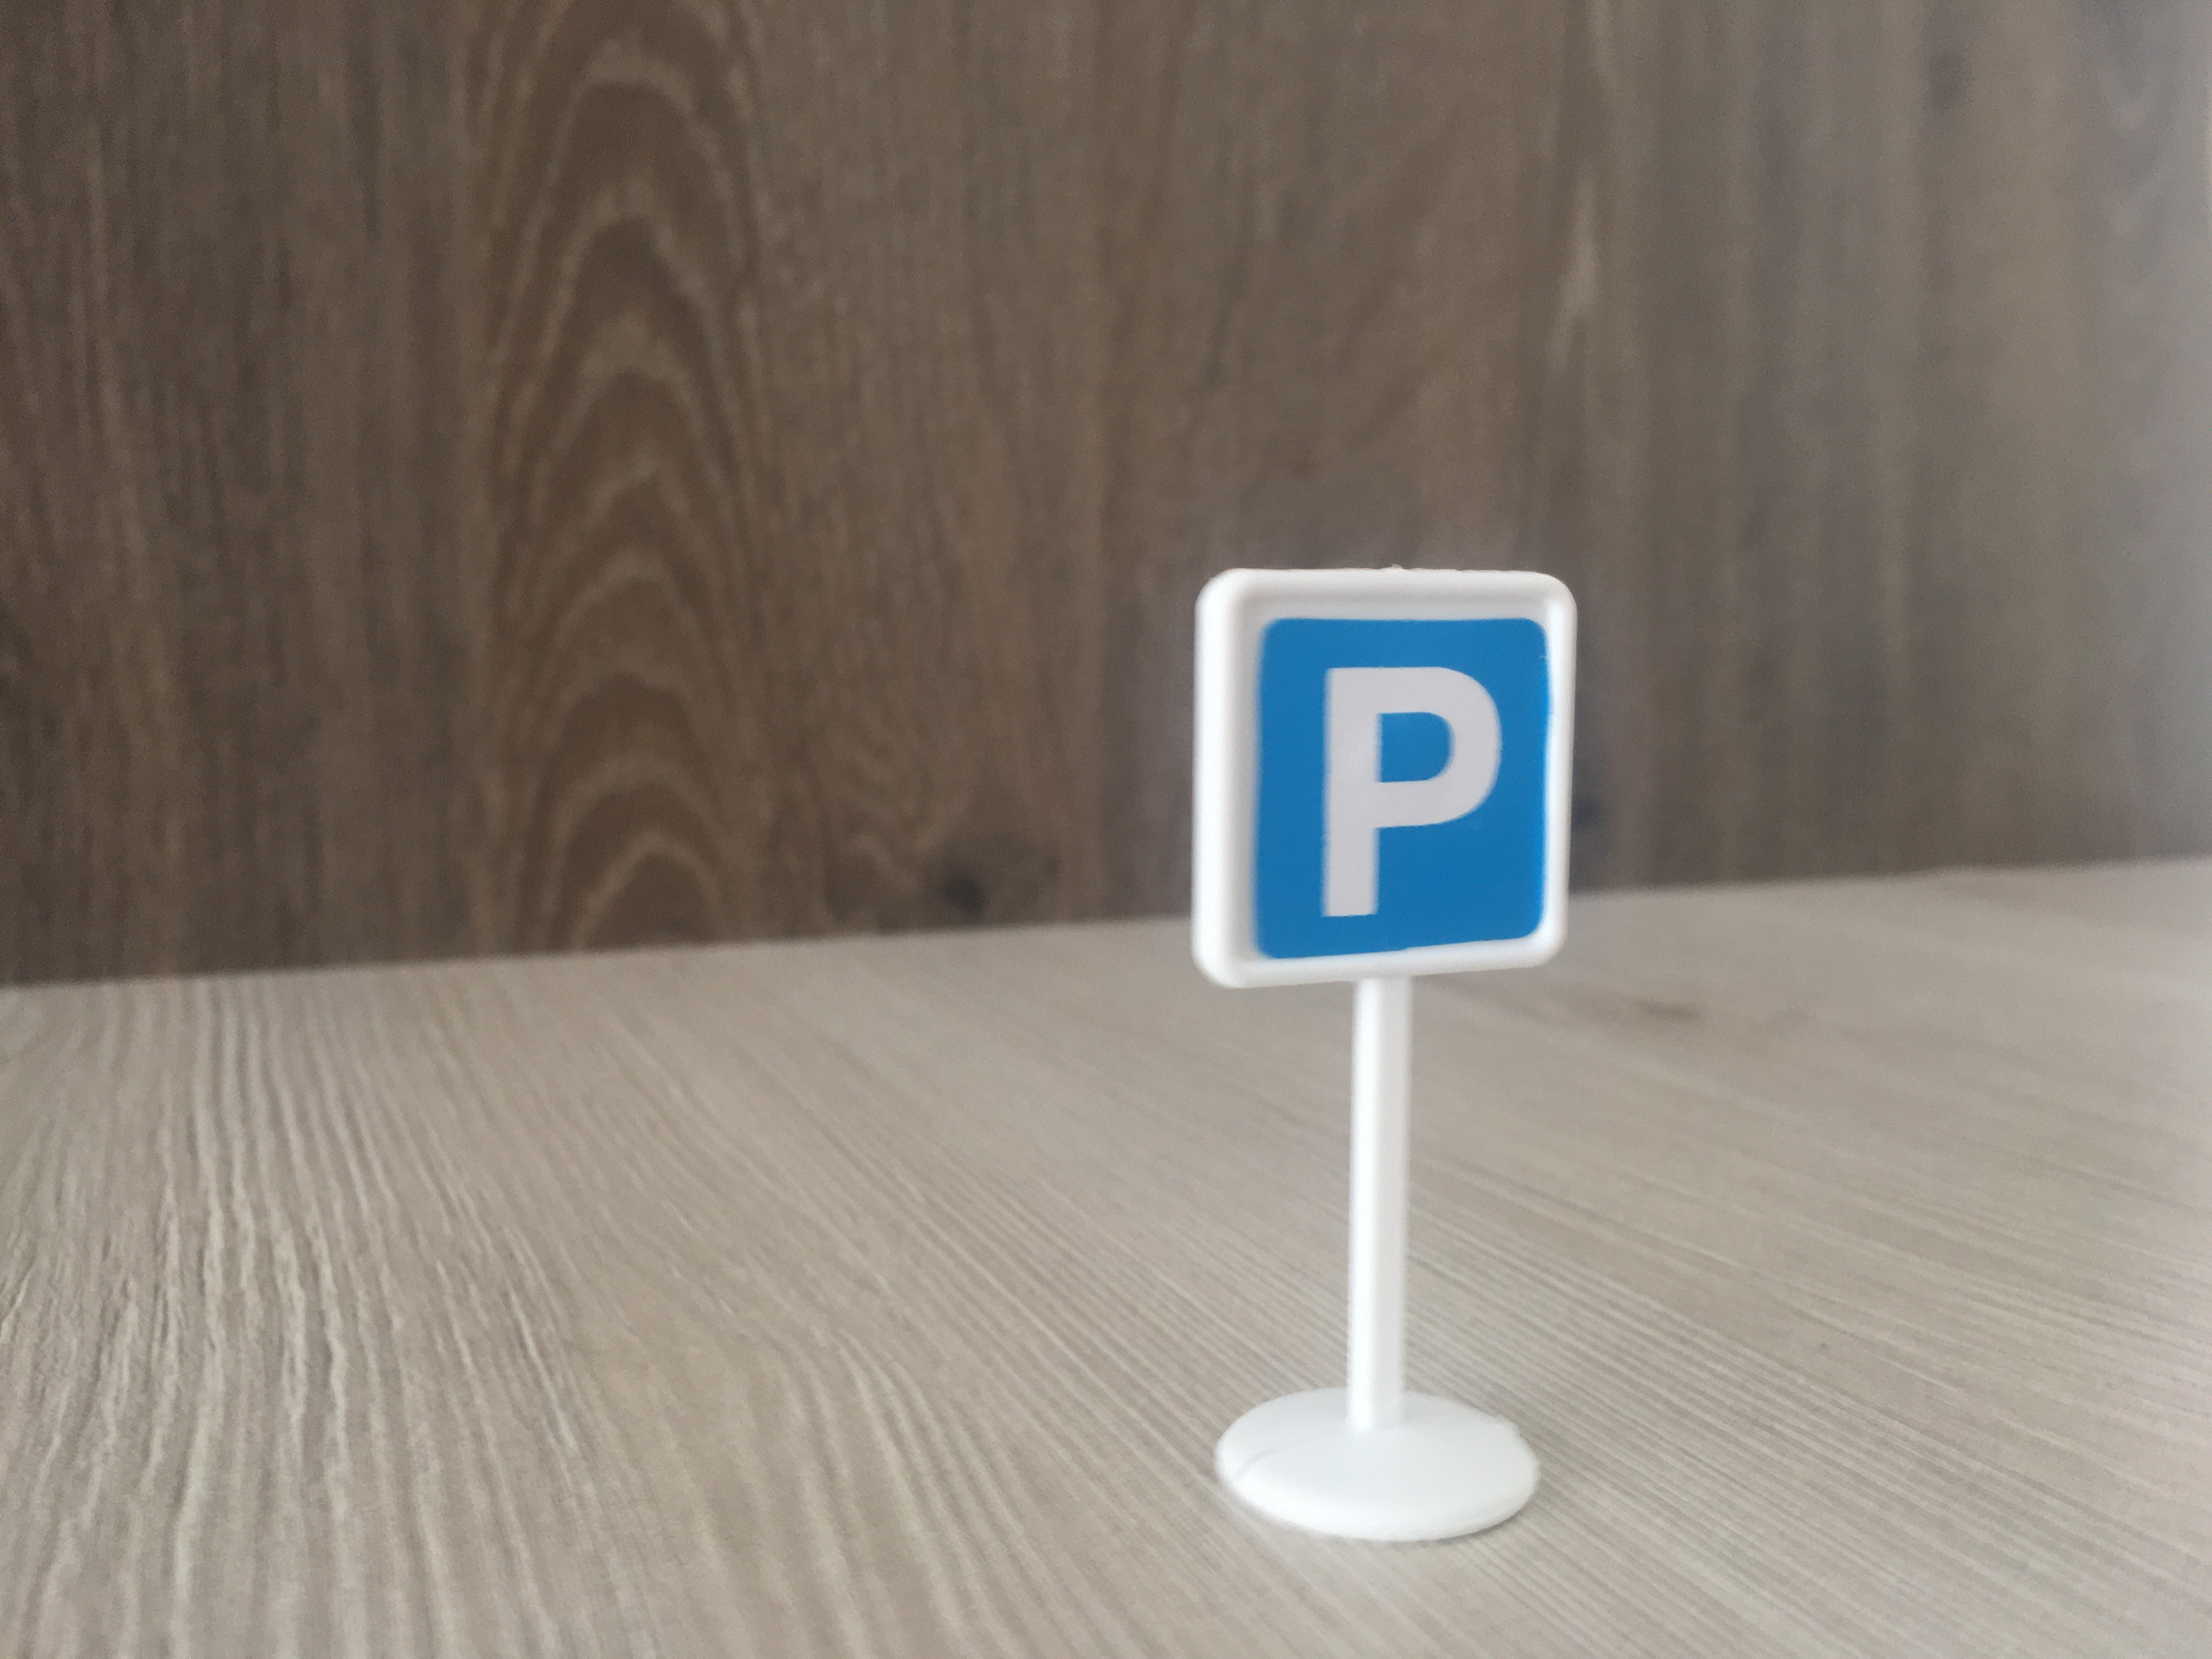parking: (1184, 568, 1580, 993)
